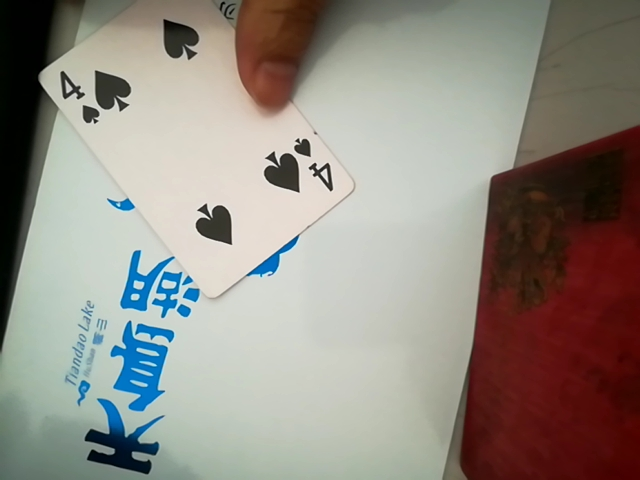ht 4: (23, 2, 356, 299)
